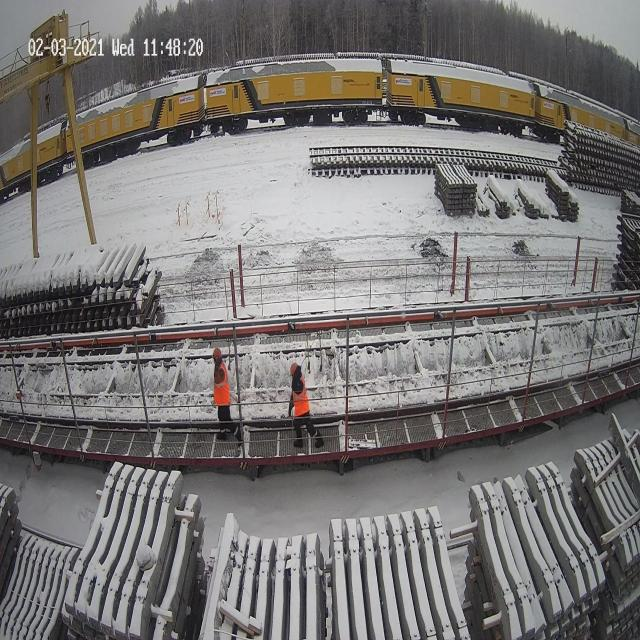Helmet: (213, 348, 221, 359)
Person: (288, 362, 324, 449), (213, 348, 242, 442)
